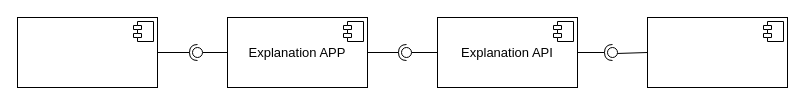
This 805x105 diagram has some shape labels left out. The centre of each missing label's shape, as x and y in pixels:
"Database" belongs at point 717,52.
"Web Browser" belongs at point 87,52.
